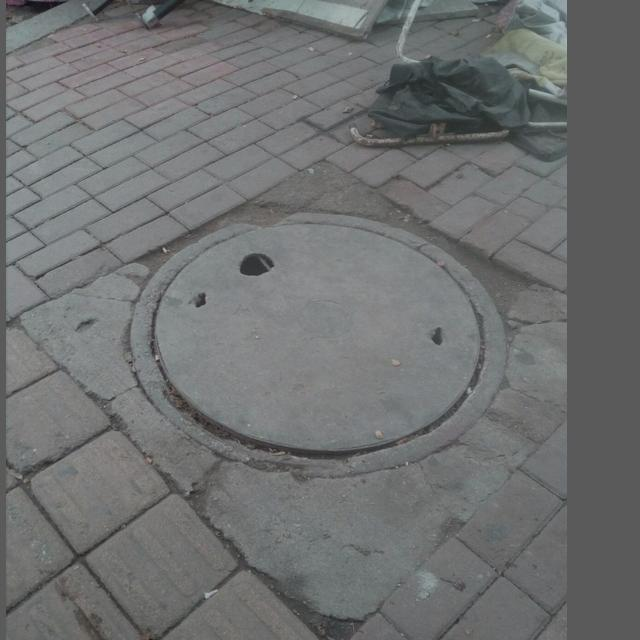broke: (127, 211, 512, 479)
